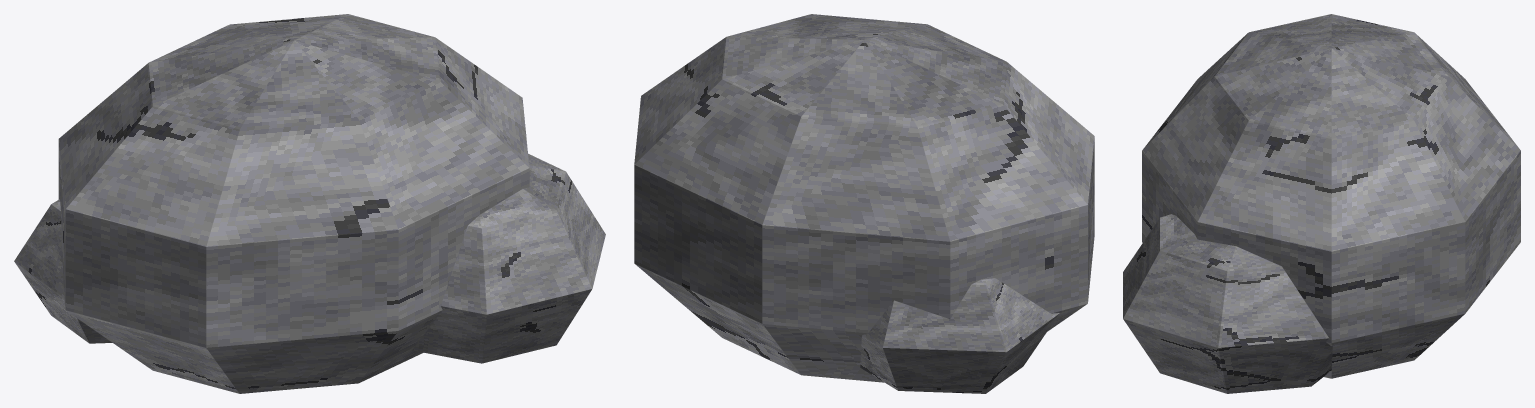
File: pedra_solta.glb
3 views of the same model, side by side, from view 1: azimuth 30°, elevation 25°; view 2: azimuth 150°, elevation 25°; view 3: azimuth 270°, elevation 25° (orthographic). The views are drawn at different scales.
Visible parts, largest first — view 1: pedra_solta; view 2: pedra_solta; view 3: pedra_solta.
Boxes of the visible parts, <box> form: pedra_solta: <box>14,14,605,393</box>; pedra_solta: <box>634,14,1094,393</box>; pedra_solta: <box>1123,14,1520,393</box>.
Size of the model in its own units: 0.6039 by 0.3947 by 0.4802.
Materials: 1 (1 with a texture image).
